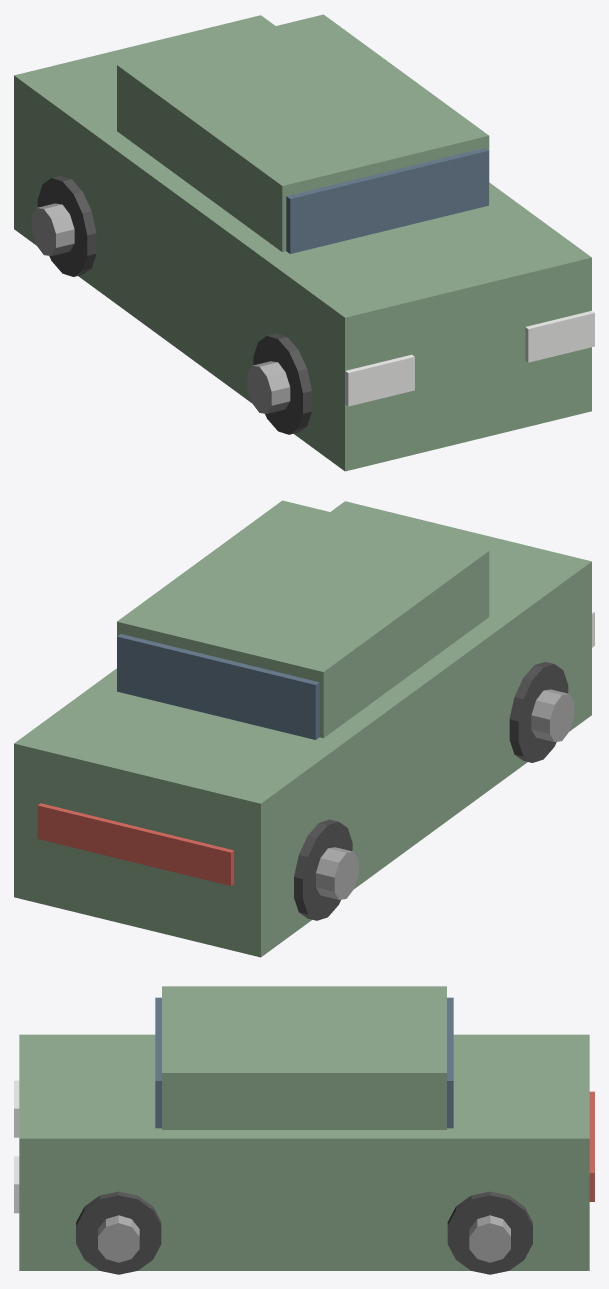
File: crossover_suv.glb
The picture shows the model from 3 angles, top to bottom: view 1: azimuth 30°, elevation 25°; view 2: azimuth 150°, elevation 25°; view 3: azimuth 270°, elevation 25°; orthographic projection. The views are drawn at different scales.
Parts seen in each view (by area): view 1: body, cabin, glass_f, wheel_rr, wheel_fr, headlamp_r, headlamp_l, hub_-1_-1, hub_-1_1; view 2: body, cabin, glass_r, taillamp, wheel_fr, wheel_rr, hub_-1_1, hub_-1_-1; view 3: body, cabin, wheel_fl, wheel_rl, hub_1_1, hub_1_-1, glass_f, glass_r, taillamp.
Part boxes in pixels (left/top/right/bottom): body: left=14, top=15, right=591, bottom=471; cabin: left=117, top=14, right=489, bottom=252; glass_f: left=286, top=148, right=488, bottom=253; wheel_rr: left=37, top=175, right=96, bottom=276; wheel_fr: left=253, top=333, right=311, bottom=434; headlamp_r: left=525, top=310, right=594, bottom=362; headlamp_l: left=345, top=354, right=414, bottom=406; hub_-1_-1: left=31, top=203, right=74, bottom=255; hub_-1_1: left=247, top=361, right=290, bottom=413; body: left=14, top=501, right=591, bottom=957; cabin: left=117, top=500, right=489, bottom=738; glass_r: left=117, top=634, right=319, bottom=739; taillamp: left=37, top=803, right=233, bottom=885; wheel_fr: left=509, top=661, right=568, bottom=762; wheel_rr: left=294, top=819, right=352, bottom=920; hub_-1_1: left=531, top=689, right=574, bottom=741; hub_-1_-1: left=316, top=847, right=358, bottom=899; body: left=19, top=1034, right=589, bottom=1270; cabin: left=162, top=986, right=446, bottom=1129; wheel_fl: left=76, top=1191, right=161, bottom=1274; wheel_rl: left=447, top=1191, right=532, bottom=1274; hub_1_1: left=98, top=1215, right=139, bottom=1262; hub_1_-1: left=469, top=1215, right=510, bottom=1262; glass_f: left=155, top=997, right=161, bottom=1128; glass_r: left=447, top=997, right=453, bottom=1128; taillamp: left=589, top=1091, right=594, bottom=1201.
Bounding box in the file's own units: 2.27 × 1.58 × 4.38.
